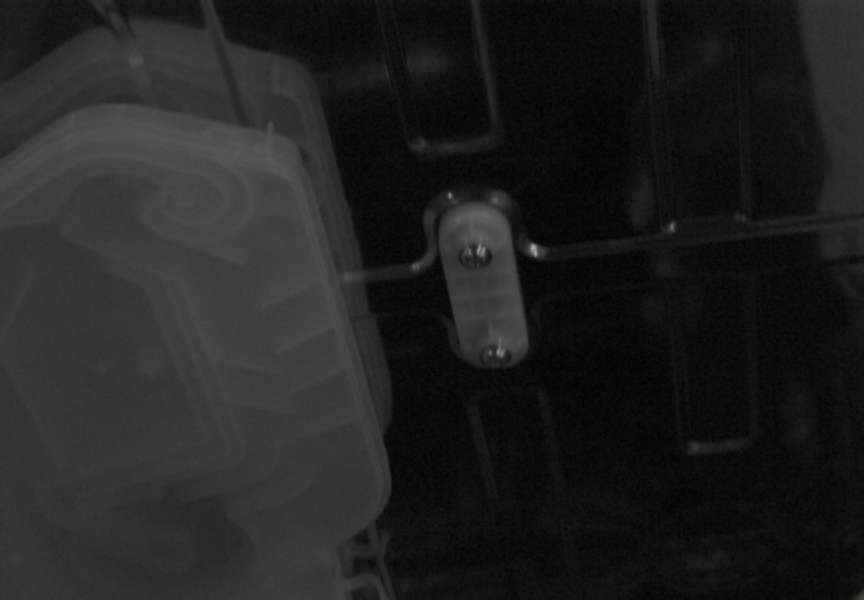screw: (459, 243, 492, 270), (479, 344, 512, 368)
